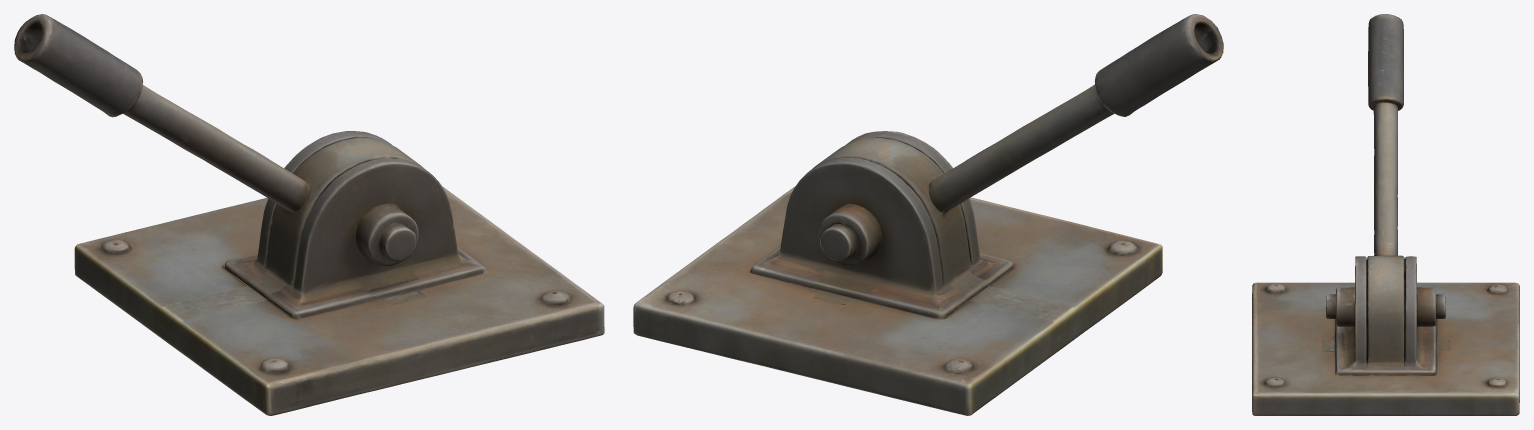
3 renders of one model, left to right at view 1: azimuth 30°, elevation 25°; view 2: azimuth 150°, elevation 25°; view 3: azimuth 270°, elevation 25°, orthographic. The views are drawn at different scales.
Visible parts, largest first — view 1: Lever; view 2: Lever; view 3: Lever.
Part boxes in pixels (x1=…): Lever: x1=14, y1=14, x2=604, y2=415; Lever: x1=633, y1=14, x2=1223, y2=415; Lever: x1=1252, y1=14, x2=1519, y2=415.
Bounding box in the file's own units: 2 × 1.41 × 1.38.
1 material, 1 textured.
